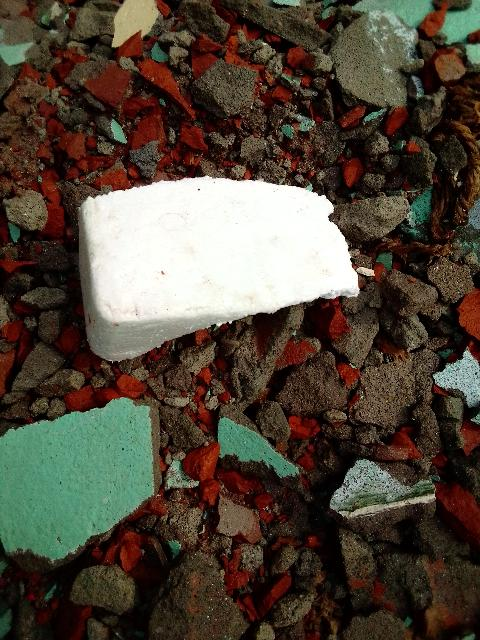cocksheet: (68, 133, 363, 350)
